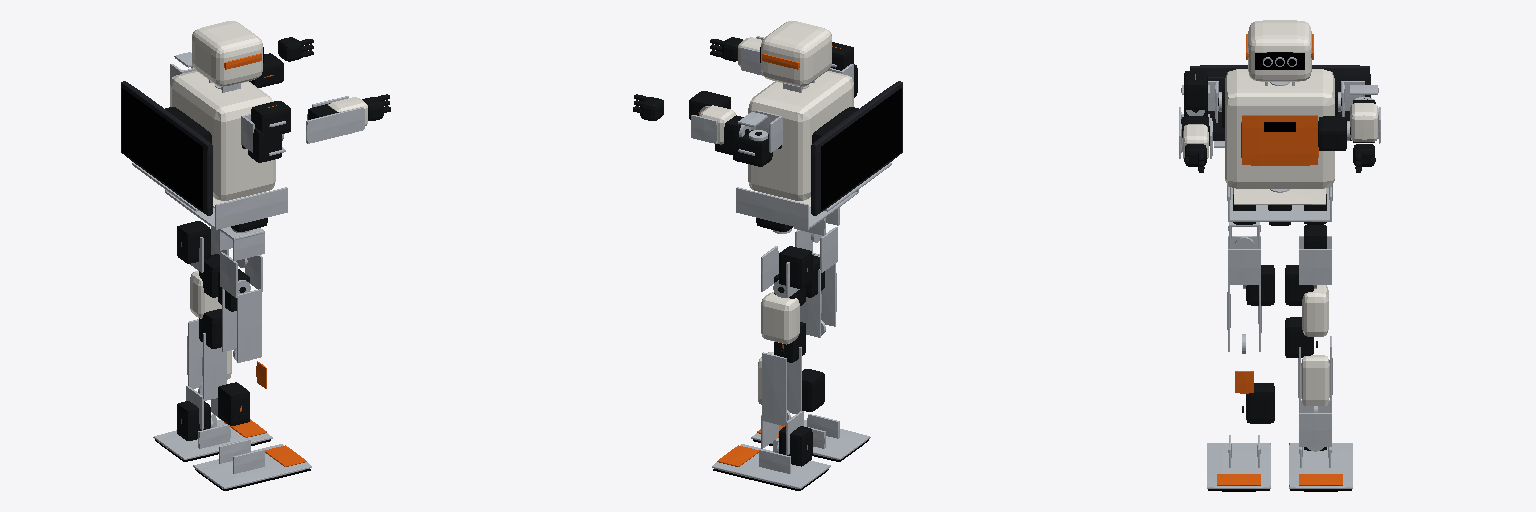
URDF robot description (leumpang_ajeg):
<?xml version="1.0"?>
<!-- dibangkitkan tools/gen_model.py - jangan diedit manual -->
<robot name="leumpang_ajeg">
  <material name="servo"><color rgba="0.11 0.12 0.13 1"/></material>
  <material name="alu"><color rgba="0.74 0.76 0.79 1"/></material>
  <material name="shell"><color rgba="0.91 0.9 0.87 1"/></material>
  <material name="accent"><color rgba="0.91 0.42 0.11 1"/></material>
  <material name="rubber"><color rgba="0.05 0.05 0.05 1"/></material>
  <material name="glass"><color rgba="0.02 0.02 0.03 1"/></material>
  <material name="phone"><color rgba="0.16 0.17 0.19 1"/></material>
  <link name="pelvis">
    <visual><geometry><mesh filename="meshes/pelvis.servo.stl" scale="0.001 0.001 0.001"/></geometry><material name="servo"/></visual>
    <visual><geometry><mesh filename="meshes/pelvis.accent.stl" scale="0.001 0.001 0.001"/></geometry><material name="accent"/></visual>
    <visual><geometry><mesh filename="meshes/pelvis.alu.stl" scale="0.001 0.001 0.001"/></geometry><material name="alu"/></visual>
    <visual><geometry><mesh filename="meshes/pelvis.shell.stl" scale="0.001 0.001 0.001"/></geometry><material name="shell"/></visual>
  </link>
  <link name="chest">
    <visual><geometry><mesh filename="meshes/chest.shell.stl" scale="0.001 0.001 0.001"/></geometry><material name="shell"/></visual>
    <visual><geometry><mesh filename="meshes/chest.accent.stl" scale="0.001 0.001 0.001"/></geometry><material name="accent"/></visual>
    <visual><geometry><mesh filename="meshes/chest.glass.stl" scale="0.001 0.001 0.001"/></geometry><material name="glass"/></visual>
    <visual><geometry><mesh filename="meshes/chest.servo.stl" scale="0.001 0.001 0.001"/></geometry><material name="servo"/></visual>
    <visual><geometry><mesh filename="meshes/chest.alu.stl" scale="0.001 0.001 0.001"/></geometry><material name="alu"/></visual>
  </link>
  <link name="phone">
    <visual><geometry><mesh filename="meshes/phone.phone.stl" scale="0.001 0.001 0.001"/></geometry><material name="phone"/></visual>
    <visual><geometry><mesh filename="meshes/phone.glass.stl" scale="0.001 0.001 0.001"/></geometry><material name="glass"/></visual>
    <visual><geometry><mesh filename="meshes/phone.alu.stl" scale="0.001 0.001 0.001"/></geometry><material name="alu"/></visual>
  </link>
  <link name="head">
    <visual><geometry><mesh filename="meshes/head.alu.stl" scale="0.001 0.001 0.001"/></geometry><material name="alu"/></visual>
    <visual><geometry><mesh filename="meshes/head.shell.stl" scale="0.001 0.001 0.001"/></geometry><material name="shell"/></visual>
    <visual><geometry><mesh filename="meshes/head.glass.stl" scale="0.001 0.001 0.001"/></geometry><material name="glass"/></visual>
    <visual><geometry><mesh filename="meshes/head.accent.stl" scale="0.001 0.001 0.001"/></geometry><material name="accent"/></visual>
  </link>
  <link name="r_shoulder">
    <visual><geometry><mesh filename="meshes/r_shoulder.alu.stl" scale="0.001 0.001 0.001"/></geometry><material name="alu"/></visual>
    <visual><geometry><mesh filename="meshes/r_shoulder.servo.stl" scale="0.001 0.001 0.001"/></geometry><material name="servo"/></visual>
    <visual><geometry><mesh filename="meshes/r_shoulder.accent.stl" scale="0.001 0.001 0.001"/></geometry><material name="accent"/></visual>
  </link>
  <link name="r_upperarm">
    <visual><geometry><mesh filename="meshes/r_upperarm.alu.stl" scale="0.001 0.001 0.001"/></geometry><material name="alu"/></visual>
    <visual><geometry><mesh filename="meshes/r_upperarm.servo.stl" scale="0.001 0.001 0.001"/></geometry><material name="servo"/></visual>
    <visual><geometry><mesh filename="meshes/r_upperarm.accent.stl" scale="0.001 0.001 0.001"/></geometry><material name="accent"/></visual>
  </link>
  <link name="r_upperarm2">
    <visual><geometry><mesh filename="meshes/r_upperarm2.shell.stl" scale="0.001 0.001 0.001"/></geometry><material name="shell"/></visual>
    <visual><geometry><mesh filename="meshes/r_upperarm2.servo.stl" scale="0.001 0.001 0.001"/></geometry><material name="servo"/></visual>
    <visual><geometry><mesh filename="meshes/r_upperarm2.accent.stl" scale="0.001 0.001 0.001"/></geometry><material name="accent"/></visual>
    <visual><geometry><mesh filename="meshes/r_upperarm2.alu.stl" scale="0.001 0.001 0.001"/></geometry><material name="alu"/></visual>
  </link>
  <link name="r_forearm">
    <visual><geometry><mesh filename="meshes/r_forearm.alu.stl" scale="0.001 0.001 0.001"/></geometry><material name="alu"/></visual>
    <visual><geometry><mesh filename="meshes/r_forearm.shell.stl" scale="0.001 0.001 0.001"/></geometry><material name="shell"/></visual>
    <visual><geometry><mesh filename="meshes/r_forearm.servo.stl" scale="0.001 0.001 0.001"/></geometry><material name="servo"/></visual>
  </link>
  <link name="l_shoulder">
    <visual><geometry><mesh filename="meshes/l_shoulder.alu.stl" scale="0.001 0.001 0.001"/></geometry><material name="alu"/></visual>
    <visual><geometry><mesh filename="meshes/l_shoulder.servo.stl" scale="0.001 0.001 0.001"/></geometry><material name="servo"/></visual>
    <visual><geometry><mesh filename="meshes/l_shoulder.accent.stl" scale="0.001 0.001 0.001"/></geometry><material name="accent"/></visual>
  </link>
  <link name="l_upperarm">
    <visual><geometry><mesh filename="meshes/l_upperarm.alu.stl" scale="0.001 0.001 0.001"/></geometry><material name="alu"/></visual>
    <visual><geometry><mesh filename="meshes/l_upperarm.servo.stl" scale="0.001 0.001 0.001"/></geometry><material name="servo"/></visual>
    <visual><geometry><mesh filename="meshes/l_upperarm.accent.stl" scale="0.001 0.001 0.001"/></geometry><material name="accent"/></visual>
  </link>
  <link name="l_upperarm2">
    <visual><geometry><mesh filename="meshes/l_upperarm2.shell.stl" scale="0.001 0.001 0.001"/></geometry><material name="shell"/></visual>
    <visual><geometry><mesh filename="meshes/l_upperarm2.servo.stl" scale="0.001 0.001 0.001"/></geometry><material name="servo"/></visual>
    <visual><geometry><mesh filename="meshes/l_upperarm2.accent.stl" scale="0.001 0.001 0.001"/></geometry><material name="accent"/></visual>
    <visual><geometry><mesh filename="meshes/l_upperarm2.alu.stl" scale="0.001 0.001 0.001"/></geometry><material name="alu"/></visual>
  </link>
  <link name="l_forearm">
    <visual><geometry><mesh filename="meshes/l_forearm.alu.stl" scale="0.001 0.001 0.001"/></geometry><material name="alu"/></visual>
    <visual><geometry><mesh filename="meshes/l_forearm.shell.stl" scale="0.001 0.001 0.001"/></geometry><material name="shell"/></visual>
    <visual><geometry><mesh filename="meshes/l_forearm.servo.stl" scale="0.001 0.001 0.001"/></geometry><material name="servo"/></visual>
  </link>
  <link name="r_hip_yaw">
    <visual><geometry><mesh filename="meshes/r_hip_yaw.alu.stl" scale="0.001 0.001 0.001"/></geometry><material name="alu"/></visual>
    <visual><geometry><mesh filename="meshes/r_hip_yaw.servo.stl" scale="0.001 0.001 0.001"/></geometry><material name="servo"/></visual>
    <visual><geometry><mesh filename="meshes/r_hip_yaw.accent.stl" scale="0.001 0.001 0.001"/></geometry><material name="accent"/></visual>
  </link>
  <link name="r_hip_roll">
    <visual><geometry><mesh filename="meshes/r_hip_roll.alu.stl" scale="0.001 0.001 0.001"/></geometry><material name="alu"/></visual>
    <visual><geometry><mesh filename="meshes/r_hip_roll.servo.stl" scale="0.001 0.001 0.001"/></geometry><material name="servo"/></visual>
    <visual><geometry><mesh filename="meshes/r_hip_roll.accent.stl" scale="0.001 0.001 0.001"/></geometry><material name="accent"/></visual>
  </link>
  <link name="r_thigh">
    <visual><geometry><mesh filename="meshes/r_thigh.alu.stl" scale="0.001 0.001 0.001"/></geometry><material name="alu"/></visual>
    <visual><geometry><mesh filename="meshes/r_thigh.shell.stl" scale="0.001 0.001 0.001"/></geometry><material name="shell"/></visual>
    <visual><geometry><mesh filename="meshes/r_thigh.servo.stl" scale="0.001 0.001 0.001"/></geometry><material name="servo"/></visual>
    <visual><geometry><mesh filename="meshes/r_thigh.accent.stl" scale="0.001 0.001 0.001"/></geometry><material name="accent"/></visual>
  </link>
  <link name="r_shin">
    <visual><geometry><mesh filename="meshes/r_shin.alu.stl" scale="0.001 0.001 0.001"/></geometry><material name="alu"/></visual>
    <visual><geometry><mesh filename="meshes/r_shin.shell.stl" scale="0.001 0.001 0.001"/></geometry><material name="shell"/></visual>
    <visual><geometry><mesh filename="meshes/r_shin.accent.stl" scale="0.001 0.001 0.001"/></geometry><material name="accent"/></visual>
    <visual><geometry><mesh filename="meshes/r_shin.servo.stl" scale="0.001 0.001 0.001"/></geometry><material name="servo"/></visual>
  </link>
  <link name="r_ankle">
    <visual><geometry><mesh filename="meshes/r_ankle.alu.stl" scale="0.001 0.001 0.001"/></geometry><material name="alu"/></visual>
    <visual><geometry><mesh filename="meshes/r_ankle.servo.stl" scale="0.001 0.001 0.001"/></geometry><material name="servo"/></visual>
    <visual><geometry><mesh filename="meshes/r_ankle.accent.stl" scale="0.001 0.001 0.001"/></geometry><material name="accent"/></visual>
  </link>
  <link name="r_foot">
    <visual><geometry><mesh filename="meshes/r_foot.alu.stl" scale="0.001 0.001 0.001"/></geometry><material name="alu"/></visual>
    <visual><geometry><mesh filename="meshes/r_foot.rubber.stl" scale="0.001 0.001 0.001"/></geometry><material name="rubber"/></visual>
    <visual><geometry><mesh filename="meshes/r_foot.accent.stl" scale="0.001 0.001 0.001"/></geometry><material name="accent"/></visual>
    <collision><origin xyz="0.009 0 -0.0215"/><geometry><box size="0.096 0.058 0.004"/></geometry></collision>
  </link>
  <link name="l_hip_yaw">
    <visual><geometry><mesh filename="meshes/l_hip_yaw.alu.stl" scale="0.001 0.001 0.001"/></geometry><material name="alu"/></visual>
    <visual><geometry><mesh filename="meshes/l_hip_yaw.servo.stl" scale="0.001 0.001 0.001"/></geometry><material name="servo"/></visual>
    <visual><geometry><mesh filename="meshes/l_hip_yaw.accent.stl" scale="0.001 0.001 0.001"/></geometry><material name="accent"/></visual>
  </link>
  <link name="l_hip_roll">
    <visual><geometry><mesh filename="meshes/l_hip_roll.alu.stl" scale="0.001 0.001 0.001"/></geometry><material name="alu"/></visual>
    <visual><geometry><mesh filename="meshes/l_hip_roll.servo.stl" scale="0.001 0.001 0.001"/></geometry><material name="servo"/></visual>
    <visual><geometry><mesh filename="meshes/l_hip_roll.accent.stl" scale="0.001 0.001 0.001"/></geometry><material name="accent"/></visual>
  </link>
  <link name="l_thigh">
    <visual><geometry><mesh filename="meshes/l_thigh.alu.stl" scale="0.001 0.001 0.001"/></geometry><material name="alu"/></visual>
    <visual><geometry><mesh filename="meshes/l_thigh.shell.stl" scale="0.001 0.001 0.001"/></geometry><material name="shell"/></visual>
    <visual><geometry><mesh filename="meshes/l_thigh.servo.stl" scale="0.001 0.001 0.001"/></geometry><material name="servo"/></visual>
    <visual><geometry><mesh filename="meshes/l_thigh.accent.stl" scale="0.001 0.001 0.001"/></geometry><material name="accent"/></visual>
  </link>
  <link name="l_shin">
    <visual><geometry><mesh filename="meshes/l_shin.alu.stl" scale="0.001 0.001 0.001"/></geometry><material name="alu"/></visual>
    <visual><geometry><mesh filename="meshes/l_shin.shell.stl" scale="0.001 0.001 0.001"/></geometry><material name="shell"/></visual>
    <visual><geometry><mesh filename="meshes/l_shin.accent.stl" scale="0.001 0.001 0.001"/></geometry><material name="accent"/></visual>
    <visual><geometry><mesh filename="meshes/l_shin.servo.stl" scale="0.001 0.001 0.001"/></geometry><material name="servo"/></visual>
  </link>
  <link name="l_ankle">
    <visual><geometry><mesh filename="meshes/l_ankle.alu.stl" scale="0.001 0.001 0.001"/></geometry><material name="alu"/></visual>
    <visual><geometry><mesh filename="meshes/l_ankle.servo.stl" scale="0.001 0.001 0.001"/></geometry><material name="servo"/></visual>
    <visual><geometry><mesh filename="meshes/l_ankle.accent.stl" scale="0.001 0.001 0.001"/></geometry><material name="accent"/></visual>
  </link>
  <link name="l_foot">
    <visual><geometry><mesh filename="meshes/l_foot.alu.stl" scale="0.001 0.001 0.001"/></geometry><material name="alu"/></visual>
    <visual><geometry><mesh filename="meshes/l_foot.rubber.stl" scale="0.001 0.001 0.001"/></geometry><material name="rubber"/></visual>
    <visual><geometry><mesh filename="meshes/l_foot.accent.stl" scale="0.001 0.001 0.001"/></geometry><material name="accent"/></visual>
    <collision><origin xyz="0.009 0 -0.0215"/><geometry><box size="0.096 0.058 0.004"/></geometry></collision>
  </link>
  <!-- ICS bus 0 slot 0: sudut = src / 1718.9 rad -->
  <joint name="WAIST" type="revolute"><parent link="pelvis"/><child link="chest"/><origin xyz="0.0000 0.0000 0.0040"/><axis xyz="0 0 1"/><limit lower="-2.3" upper="2.3" effort="2.5" velocity="6.0"/></joint>
  <joint name="phone_fixed" type="fixed"><parent link="chest"/><child link="phone"/><origin xyz="-0.0620 0.0000 0.0520"/></joint>
  <!-- ICS bus 1 slot 0: sudut = src / 1718.9 rad -->
  <joint name="HEAD" type="revolute"><parent link="chest"/><child link="head"/><origin xyz="0.0000 0.0000 0.1040"/><axis xyz="0 0 1"/><limit lower="-2.3" upper="2.3" effort="2.5" velocity="6.0"/></joint>
  <!-- ICS bus 0 slot 1: sudut = src / 1718.9 rad -->
  <joint name="R_SHOULDER_P" type="revolute"><parent link="chest"/><child link="r_shoulder"/><origin xyz="0.0000 -0.0540 0.0820"/><axis xyz="0 -1 0"/><limit lower="-2.3" upper="2.3" effort="2.5" velocity="6.0"/></joint>
  <!-- ICS bus 0 slot 2: sudut = src / 1718.9 rad -->
  <joint name="R_SHOULDER_R" type="revolute"><parent link="r_shoulder"/><child link="r_upperarm"/><origin xyz="0.0000 -0.0220 0.0000"/><axis xyz="0 0 -1"/><limit lower="-2.3" upper="2.3" effort="2.5" velocity="6.0"/></joint>
  <!-- ICS bus 0 slot 3: sudut = src / 1718.9 rad -->
  <joint name="R_SHOULDER_Y" type="revolute"><parent link="r_upperarm"/><child link="r_upperarm2"/><origin xyz="0.0140 0.0000 0.0000"/><axis xyz="1 0 0"/><limit lower="-2.3" upper="2.3" effort="2.5" velocity="6.0"/></joint>
  <!-- ICS bus 0 slot 4: sudut = src / 1718.9 rad -->
  <joint name="R_ELBOW" type="revolute"><parent link="r_upperarm2"/><child link="r_forearm"/><origin xyz="0.0480 0.0000 0.0000"/><axis xyz="0 1 0"/><limit lower="-2.3" upper="2.3" effort="2.5" velocity="6.0"/></joint>
  <!-- ICS bus 1 slot 1: sudut = src / 1718.9 rad -->
  <joint name="L_SHOULDER_P" type="revolute"><parent link="chest"/><child link="l_shoulder"/><origin xyz="0.0000 0.0540 0.0820"/><axis xyz="0 -1 0"/><limit lower="-2.3" upper="2.3" effort="2.5" velocity="6.0"/></joint>
  <!-- ICS bus 1 slot 2: sudut = src / 1718.9 rad -->
  <joint name="L_SHOULDER_R" type="revolute"><parent link="l_shoulder"/><child link="l_upperarm"/><origin xyz="0.0000 0.0220 0.0000"/><axis xyz="0 0 1"/><limit lower="-2.3" upper="2.3" effort="2.5" velocity="6.0"/></joint>
  <!-- ICS bus 1 slot 3: sudut = src / 1718.9 rad -->
  <joint name="L_SHOULDER_Y" type="revolute"><parent link="l_upperarm"/><child link="l_upperarm2"/><origin xyz="0.0140 0.0000 0.0000"/><axis xyz="-1 0 0"/><limit lower="-2.3" upper="2.3" effort="2.5" velocity="6.0"/></joint>
  <!-- ICS bus 1 slot 4: sudut = src / 1718.9 rad -->
  <joint name="L_ELBOW" type="revolute"><parent link="l_upperarm2"/><child link="l_forearm"/><origin xyz="0.0480 0.0000 0.0000"/><axis xyz="0 1 0"/><limit lower="-2.3" upper="2.3" effort="2.5" velocity="6.0"/></joint>
  <!-- ICS bus 0 slot 5: sudut = src / 1718.9 rad -->
  <joint name="R_HIP_Y" type="revolute"><parent link="pelvis"/><child link="r_hip_yaw"/><origin xyz="0.0000 -0.0320 -0.0280"/><axis xyz="0 0 1"/><limit lower="-2.3" upper="2.3" effort="2.5" velocity="6.0"/></joint>
  <!-- ICS bus 0 slot 6: sudut = src / 1718.9 rad -->
  <joint name="R_HIP_R" type="revolute"><parent link="r_hip_yaw"/><child link="r_hip_roll"/><origin xyz="0.0000 0.0000 -0.0300"/><axis xyz="1 0 0"/><limit lower="-2.3" upper="2.3" effort="2.5" velocity="6.0"/></joint>
  <!-- ICS bus 0 slot 7: sudut = src / 1718.9 rad -->
  <joint name="R_HIP_P" type="revolute"><parent link="r_hip_roll"/><child link="r_thigh"/><origin xyz="0.0000 0.0000 -0.0320"/><axis xyz="0 -1 0"/><limit lower="-2.3" upper="2.3" effort="2.5" velocity="6.0"/></joint>
  <!-- ICS bus 0 slot 8: sudut = src / 1718.9 rad -->
  <joint name="R_KNEE" type="revolute"><parent link="r_thigh"/><child link="r_shin"/><origin xyz="0.0000 0.0000 -0.0650"/><axis xyz="0 1 0"/><limit lower="-2.3" upper="2.3" effort="2.5" velocity="6.0"/></joint>
  <!-- ICS bus 0 slot 9: sudut = src / 1718.9 rad -->
  <joint name="R_ANKLE_P" type="revolute"><parent link="r_shin"/><child link="r_ankle"/><origin xyz="0.0000 0.0000 -0.0650"/><axis xyz="0 -1 0"/><limit lower="-2.3" upper="2.3" effort="2.5" velocity="6.0"/></joint>
  <!-- ICS bus 0 slot 10: sudut = src / 1718.9 rad -->
  <joint name="R_ANKLE_R" type="revolute"><parent link="r_ankle"/><child link="r_foot"/><origin xyz="0.0000 0.0000 -0.0325"/><axis xyz="1 0 0"/><limit lower="-2.3" upper="2.3" effort="2.5" velocity="6.0"/></joint>
  <!-- ICS bus 1 slot 5: sudut = src / 1718.9 rad -->
  <joint name="L_HIP_Y" type="revolute"><parent link="pelvis"/><child link="l_hip_yaw"/><origin xyz="0.0000 0.0320 -0.0280"/><axis xyz="0 0 1"/><limit lower="-2.3" upper="2.3" effort="2.5" velocity="6.0"/></joint>
  <!-- ICS bus 1 slot 6: sudut = src / 1718.9 rad -->
  <joint name="L_HIP_R" type="revolute"><parent link="l_hip_yaw"/><child link="l_hip_roll"/><origin xyz="0.0000 0.0000 -0.0300"/><axis xyz="1 0 0"/><limit lower="-2.3" upper="2.3" effort="2.5" velocity="6.0"/></joint>
  <!-- ICS bus 1 slot 7: sudut = src / 1718.9 rad -->
  <joint name="L_HIP_P" type="revolute"><parent link="l_hip_roll"/><child link="l_thigh"/><origin xyz="0.0000 0.0000 -0.0320"/><axis xyz="0 -1 0"/><limit lower="-2.3" upper="2.3" effort="2.5" velocity="6.0"/></joint>
  <!-- ICS bus 1 slot 8: sudut = src / 1718.9 rad -->
  <joint name="L_KNEE" type="revolute"><parent link="l_thigh"/><child link="l_shin"/><origin xyz="0.0000 0.0000 -0.0650"/><axis xyz="0 1 0"/><limit lower="-2.3" upper="2.3" effort="2.5" velocity="6.0"/></joint>
  <!-- ICS bus 1 slot 9: sudut = src / 1718.9 rad -->
  <joint name="L_ANKLE_P" type="revolute"><parent link="l_shin"/><child link="l_ankle"/><origin xyz="0.0000 0.0000 -0.0650"/><axis xyz="0 -1 0"/><limit lower="-2.3" upper="2.3" effort="2.5" velocity="6.0"/></joint>
  <!-- ICS bus 1 slot 10: sudut = src / 1718.9 rad -->
  <joint name="L_ANKLE_R" type="revolute"><parent link="l_ankle"/><child link="l_foot"/><origin xyz="0.0000 0.0000 -0.0325"/><axis xyz="1 0 0"/><limit lower="-2.3" upper="2.3" effort="2.5" velocity="6.0"/></joint>
</robot>

--- Render facts (derived) ---
The picture shows the robot from 3 angles, left to right: view 1: azimuth 30°, elevation 25°; view 2: azimuth 150°, elevation 25°; view 3: azimuth 270°, elevation 25°; orthographic projection.
Model leumpang_ajeg with 24 links and 23 joints (22 revolute, 1 fixed), rooted at pelvis, posed every joint at zero.
Links seen in each view (by area): view 1: chest, phone, head, r_foot, pelvis, r_thigh, l_foot, l_shin, r_forearm, r_hip_roll, l_thigh, r_shoulder (+9 smaller); view 2: chest, phone, head, l_foot, l_shin, pelvis, l_thigh, r_foot, l_upperarm2, l_ankle, l_shoulder, r_thigh (+8 smaller); view 3: chest, head, pelvis, r_foot, l_foot, l_upperarm2, r_hip_roll, l_thigh, l_hip_roll, l_shin, phone, r_shin (+5 smaller).
Link boxes in pixels (left/top/right/bottom): chest: left=165, top=71, right=275, bottom=200; phone: left=121, top=81, right=212, bottom=215; head: left=192, top=21, right=263, bottom=92; r_foot: left=193, top=439, right=311, bottom=490; pelvis: left=165, top=187, right=287, bottom=232; r_thigh: left=222, top=288, right=261, bottom=362; l_foot: left=153, top=414, right=272, bottom=461; l_shin: left=187, top=319, right=231, bottom=400; r_forearm: left=312, top=94, right=390, bottom=137; r_hip_roll: left=218, top=252, right=262, bottom=311; l_thigh: left=190, top=271, right=221, bottom=348; r_shoulder: left=241, top=101, right=290, bottom=152; chest: left=748, top=71, right=858, bottom=200; phone: left=811, top=81, right=902, bottom=215; head: left=760, top=21, right=831, bottom=92; l_foot: left=712, top=439, right=830, bottom=490; l_shin: left=758, top=347, right=801, bottom=425; pelvis: left=736, top=187, right=858, bottom=233; l_thigh: left=761, top=292, right=805, bottom=362; r_foot: left=751, top=414, right=870, bottom=461; l_upperarm2: left=689, top=91, right=735, bottom=144; l_ankle: left=761, top=411, right=812, bottom=466; l_shoulder: left=733, top=110, right=782, bottom=166; r_thigh: left=800, top=253, right=836, bottom=337; chest: left=1218, top=69, right=1341, bottom=188; head: left=1246, top=20, right=1313, bottom=85; pelvis: left=1227, top=186, right=1332, bottom=225; r_foot: left=1207, top=435, right=1270, bottom=491; l_foot: left=1289, top=443, right=1352, bottom=491; l_upperarm2: left=1318, top=103, right=1380, bottom=150; r_hip_roll: left=1228, top=236, right=1274, bottom=305; l_thigh: left=1285, top=285, right=1328, bottom=357; l_hip_roll: left=1285, top=236, right=1331, bottom=305; l_shin: left=1298, top=336, right=1332, bottom=412; phone: left=1190, top=65, right=1370, bottom=147; r_shin: left=1235, top=371, right=1274, bottom=423.
Size in the robot's own frame: 0.2029 by 0.183 by 0.436 metres.
Meshes: 82 distinct files referenced, 65 mesh visuals loaded (65 binary STL); not drawn: 17 (reference not matched to a file when rendering).
